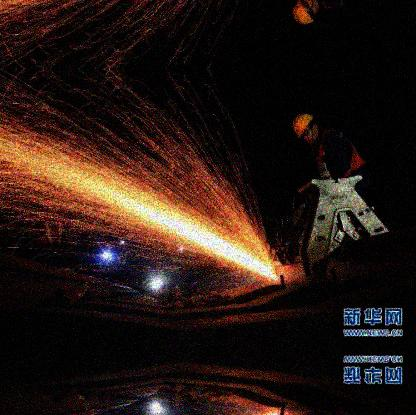helmet: (287, 112, 321, 146), (292, 1, 320, 27)
